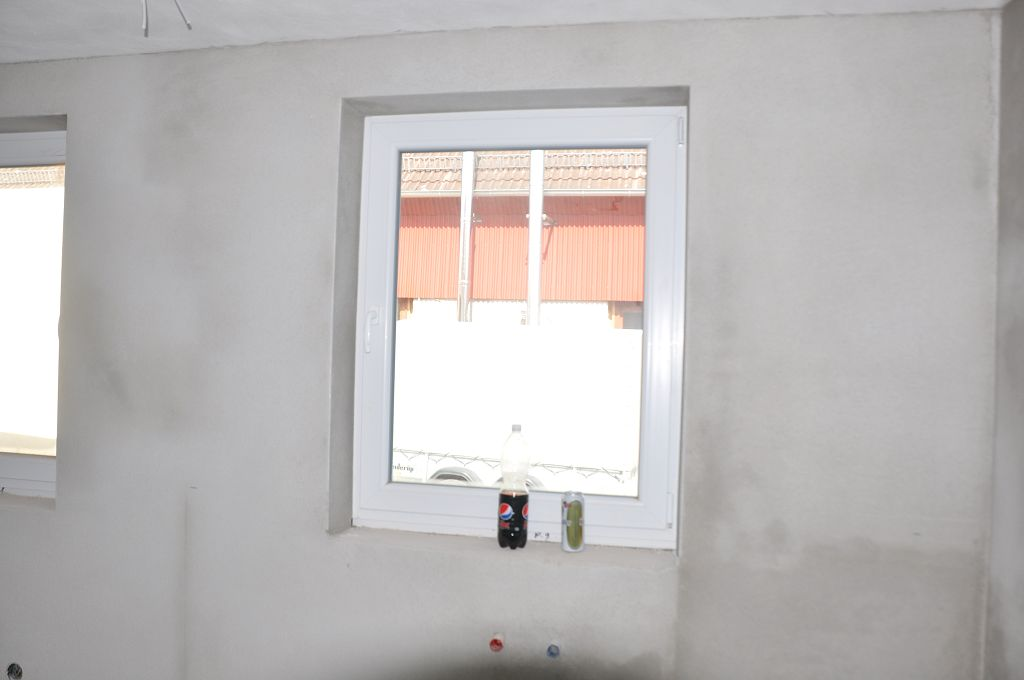windows: (350, 100, 692, 563)
